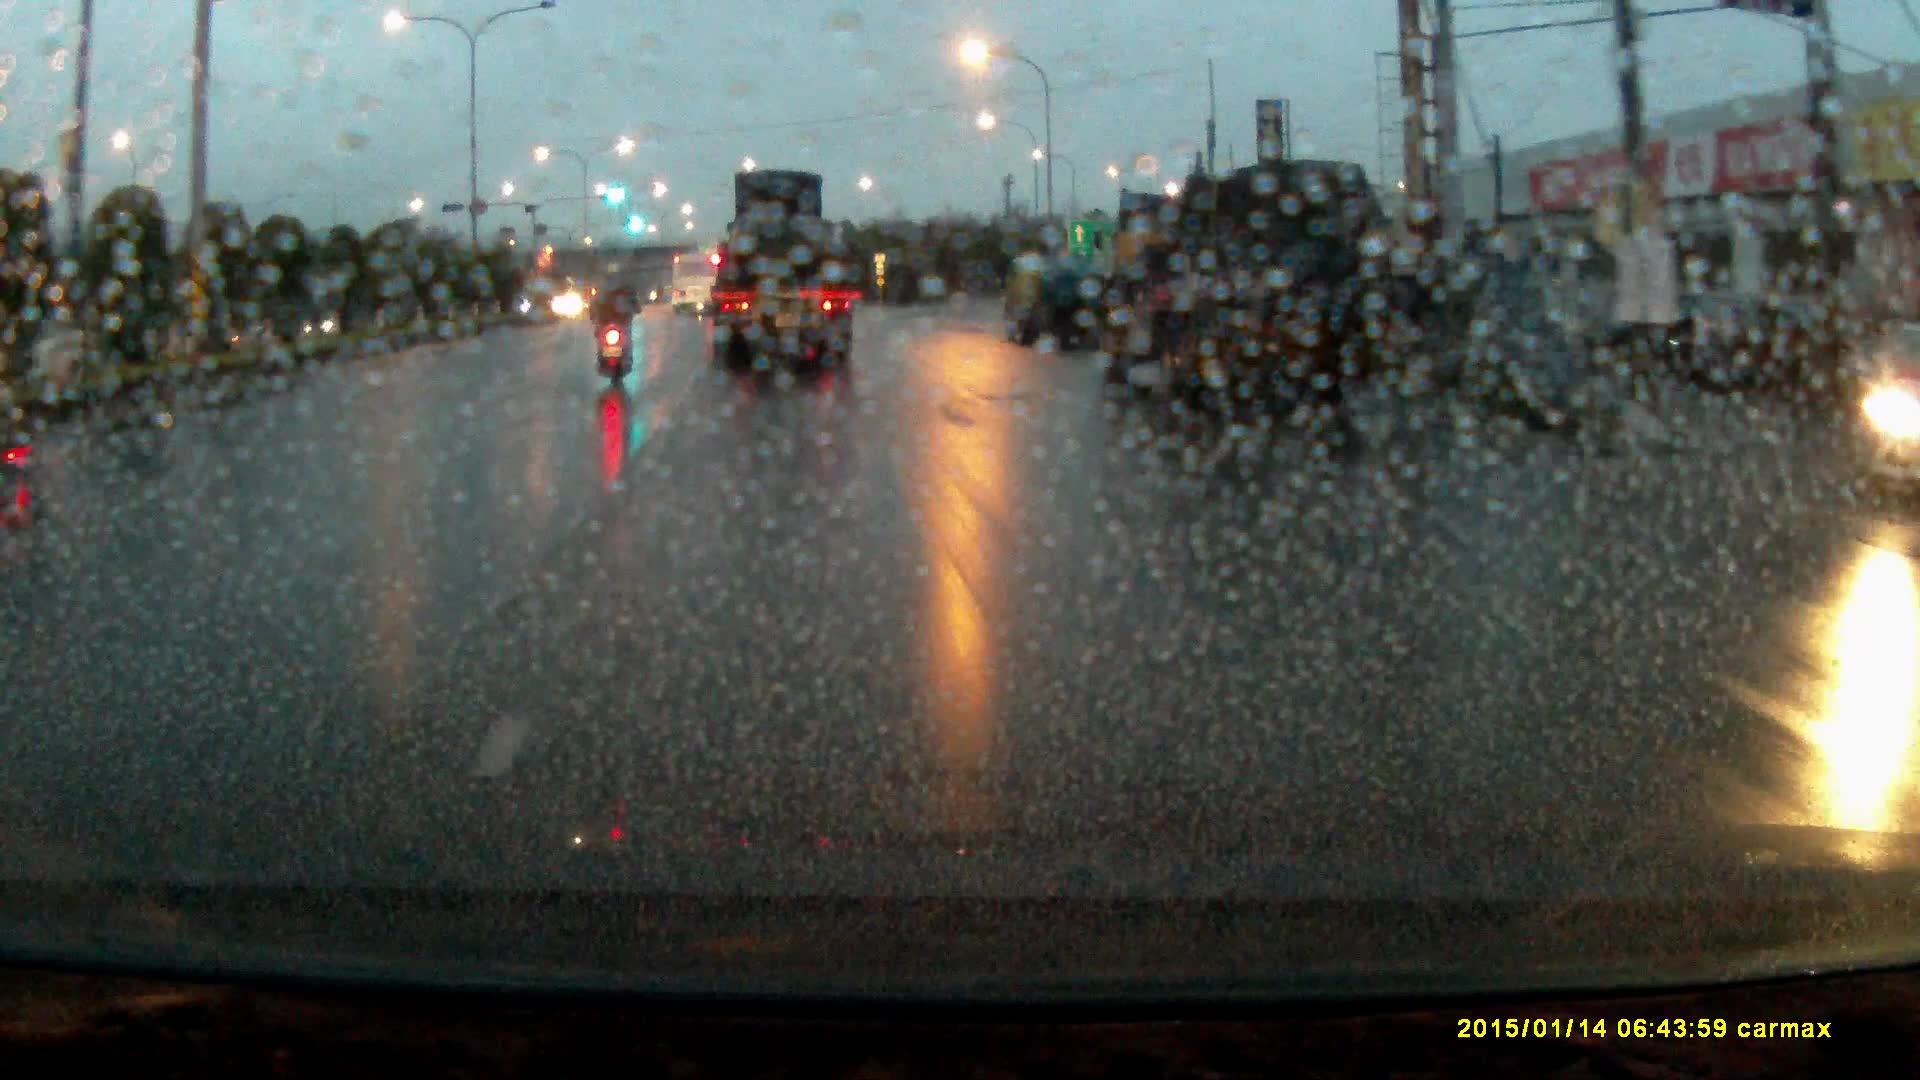rider: (590, 265, 644, 385)
vehicle: (1095, 158, 1391, 440), (708, 165, 862, 371), (1852, 321, 1920, 502), (1004, 254, 1103, 350), (673, 253, 719, 317), (590, 281, 636, 324)
